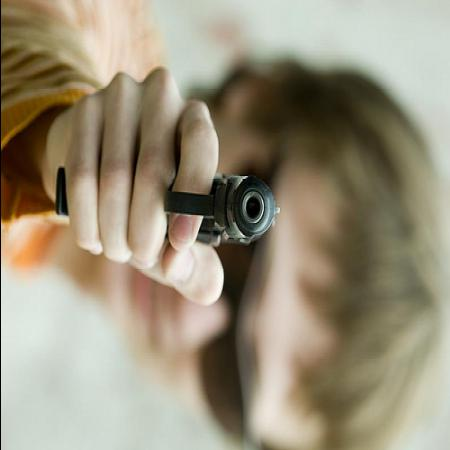Pistol: (55, 155, 282, 247)
